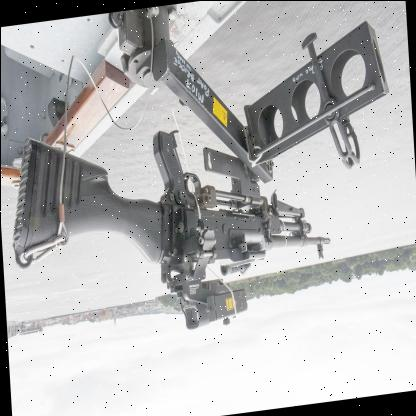rifle: (14, 101, 336, 305)
